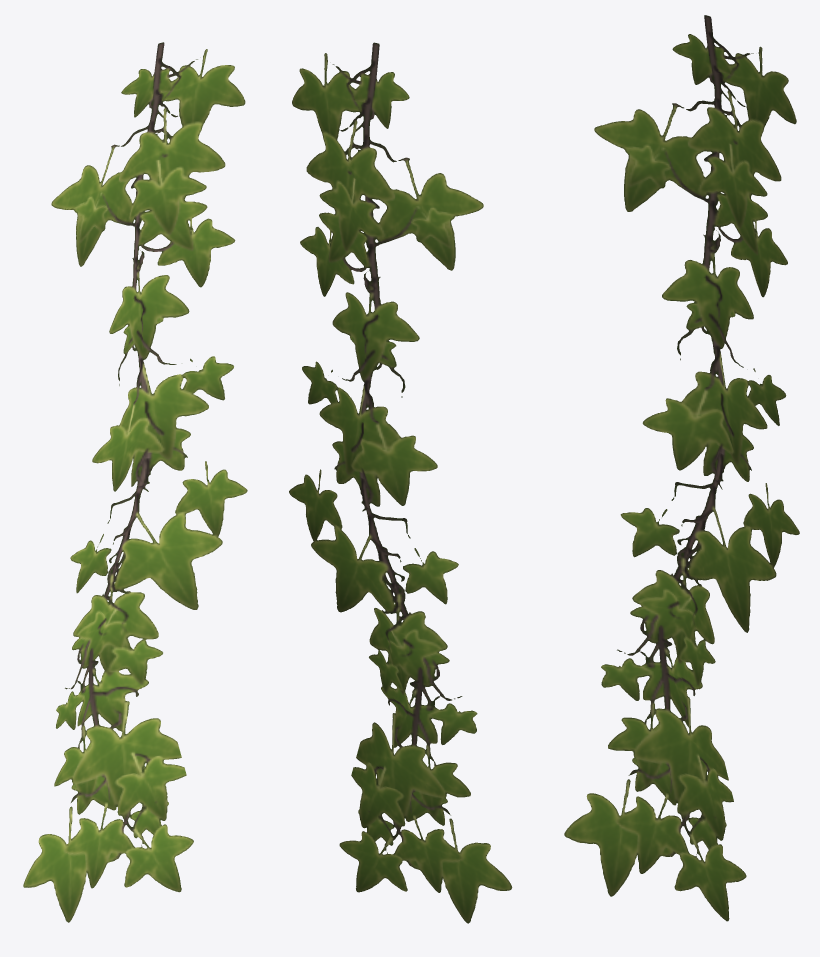
File: SM_ivy_single_medium.fbx
3 renders of one model, left to right at view 1: azimuth 30°, elevation 25°; view 2: azimuth 150°, elevation 25°; view 3: azimuth 330°, elevation 25°, orthographic. The views are drawn at different scales.
Parts seen in each view (by area): view 1: SM_ivy_single_medium; view 2: SM_ivy_single_medium; view 3: SM_ivy_single_medium.
Boxes of the visible parts, x1,y1,x2,y2 form: SM_ivy_single_medium: (23, 42, 247, 922); SM_ivy_single_medium: (289, 42, 512, 923); SM_ivy_single_medium: (564, 15, 799, 921).
Size of the model in its own units: 19.06 by 67.93 by 2.1.
